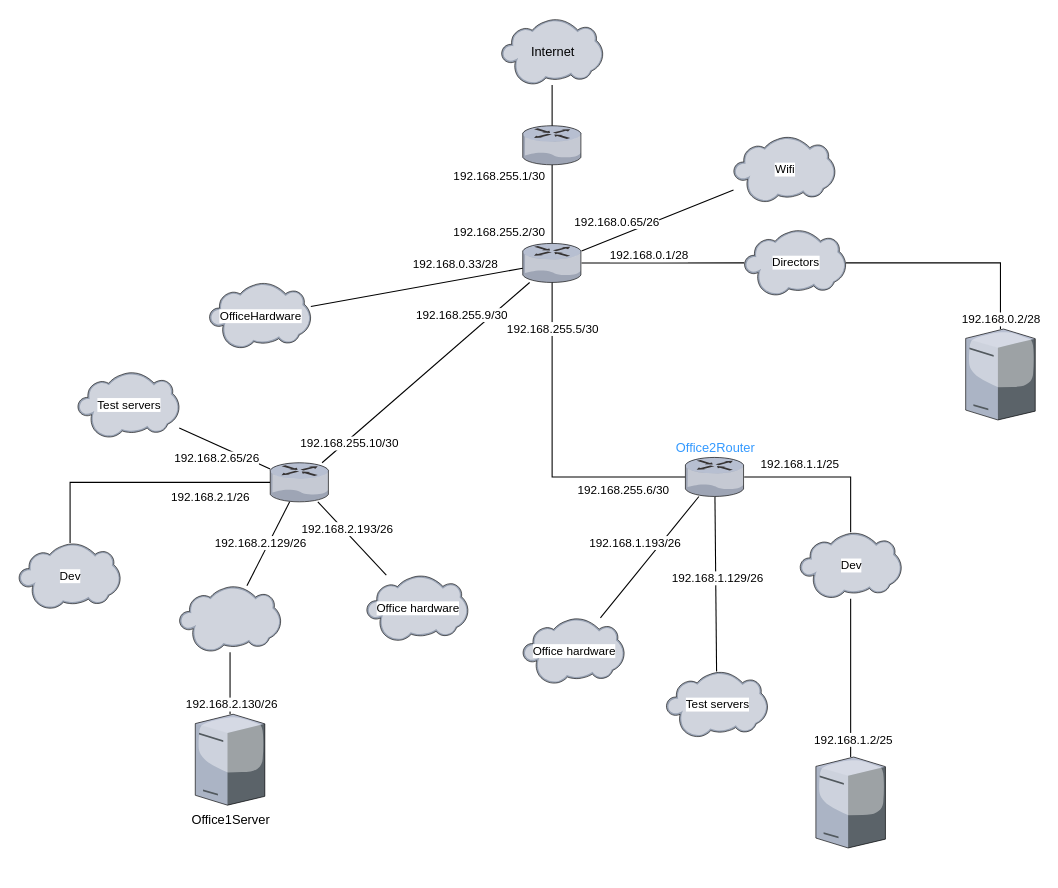
Some shapes in this 1058 by 888 pixel diagram are drawn without their labels. Each missing label, with the centre of its shape:
"CentralRouter" belongs at pixel 551 262.
"CentralServer" belongs at pixel 1000 373.
"InetRouter" belongs at pixel 551 144.
"Managers" belongs at pixel 229 618.
"Office1Router" belongs at pixel 299 481.
"Office2Server" belongs at pixel 850 801.
